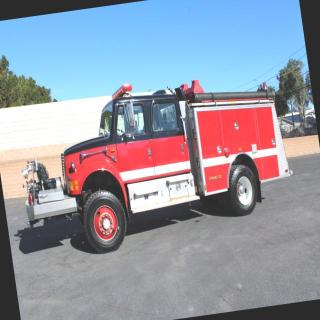Fire_truck: (8, 62, 300, 264)
